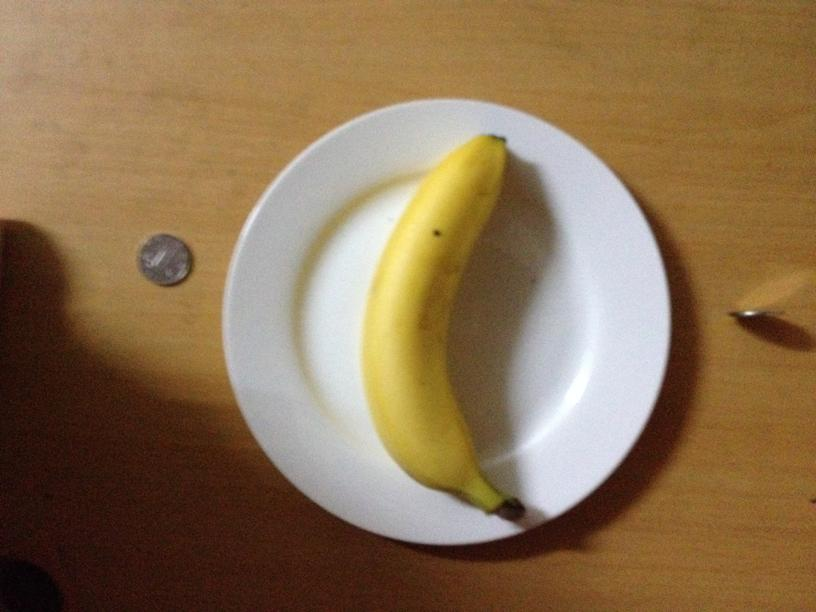banana: (359, 130, 505, 516)
coin: (134, 233, 191, 285)
